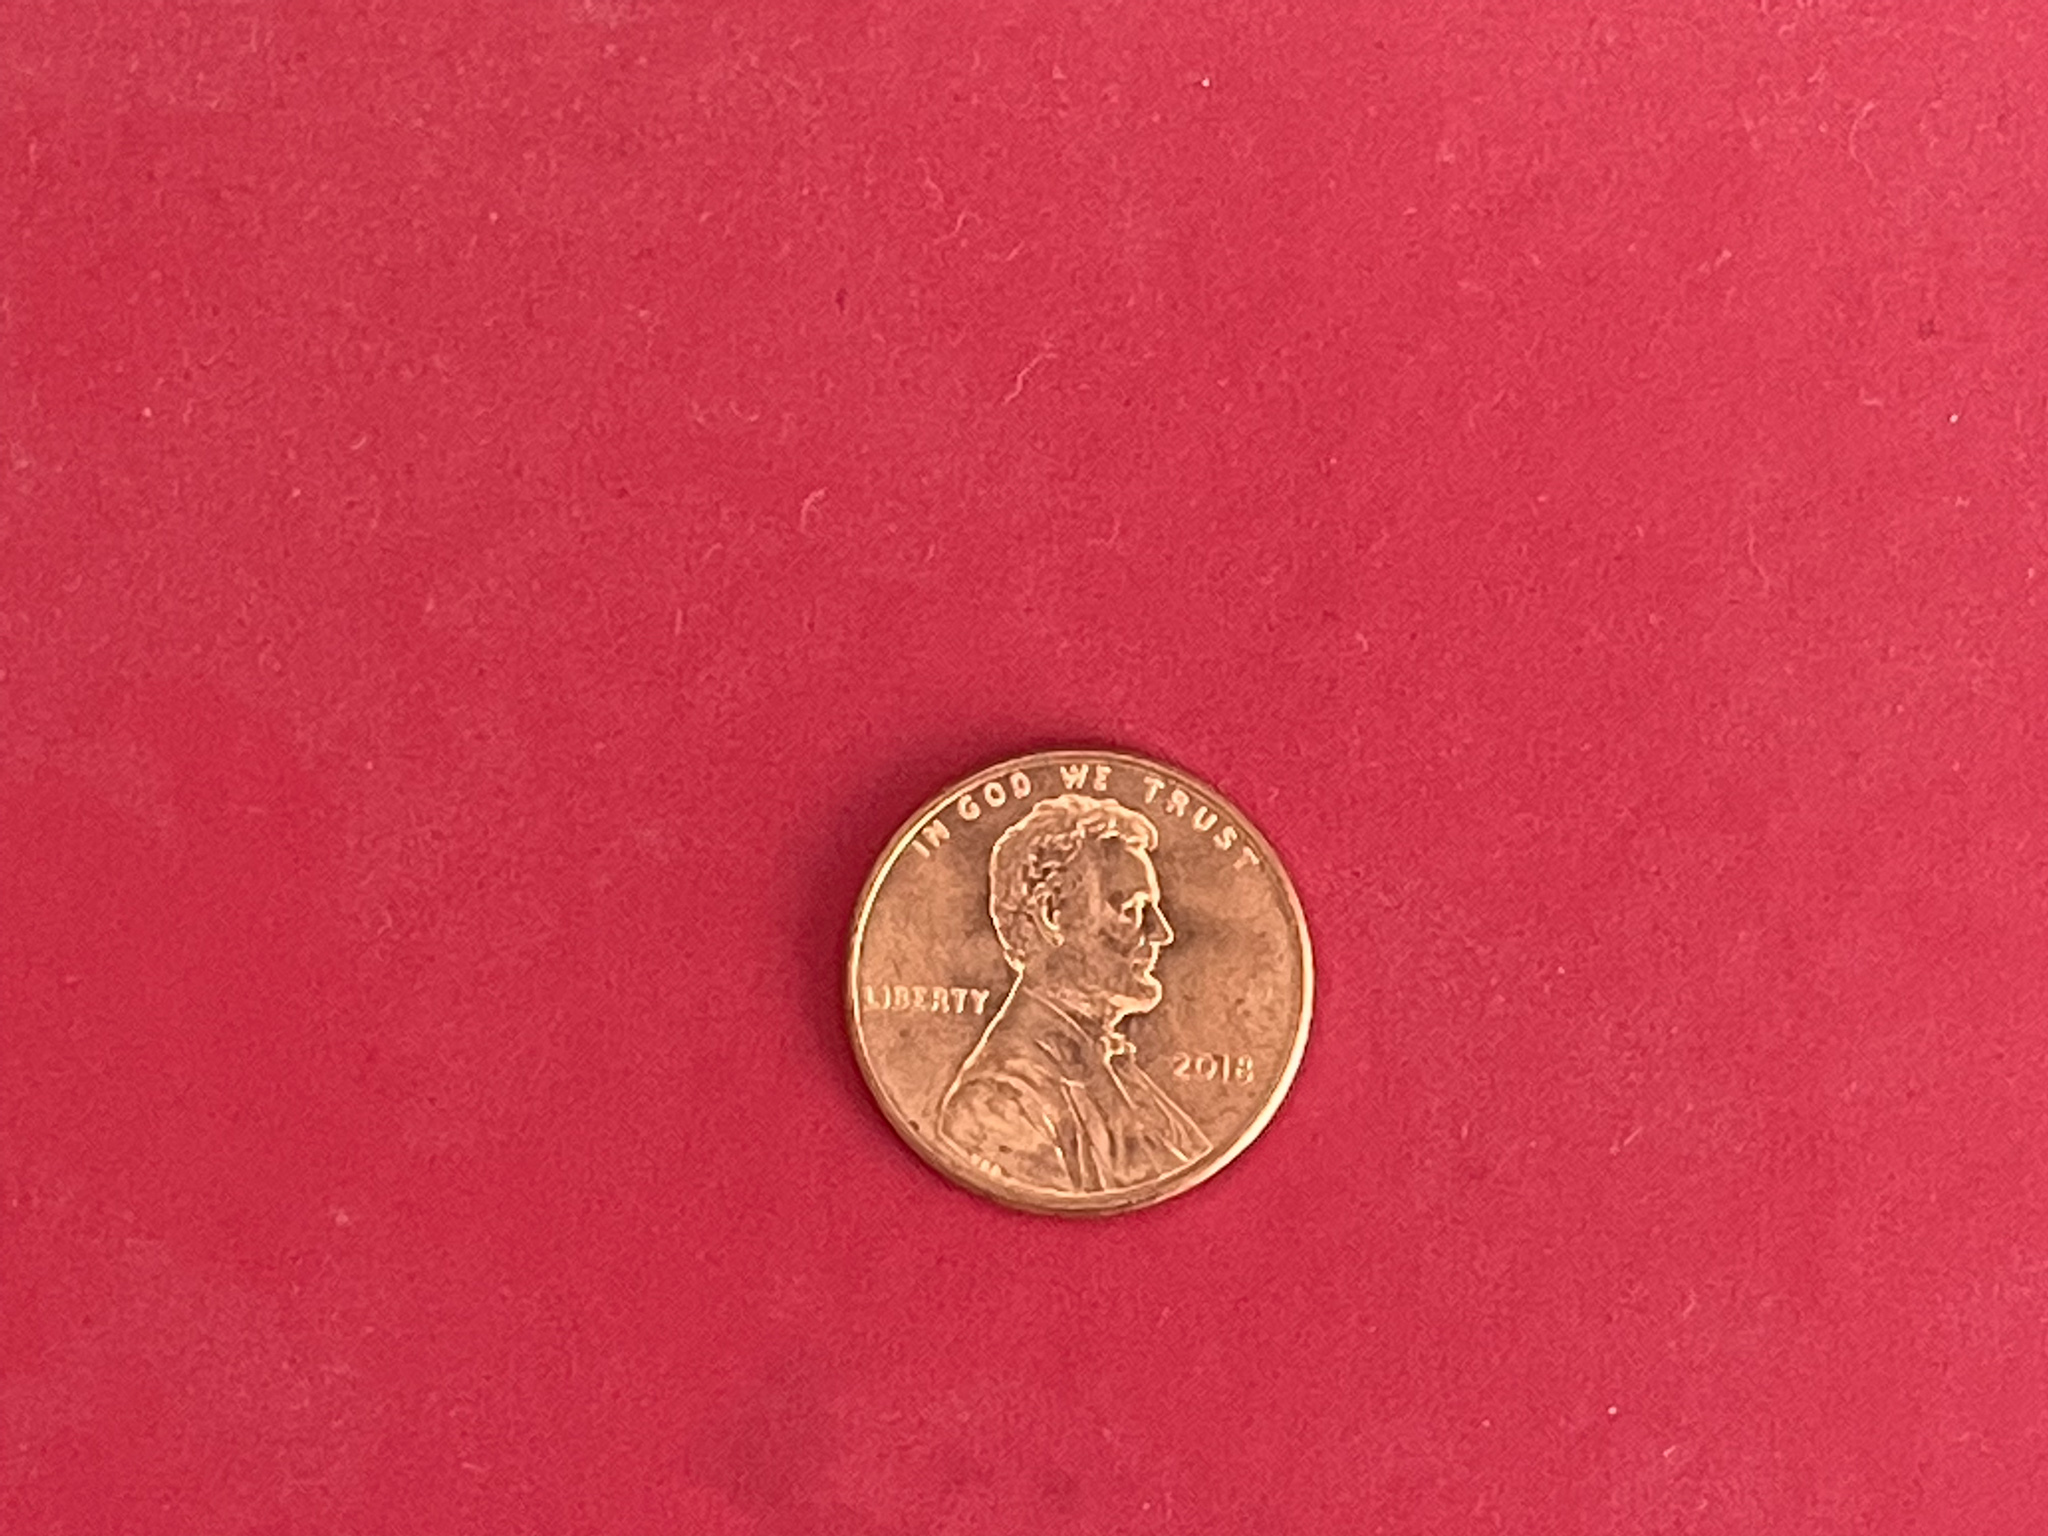penny: (839, 747, 1314, 1221)
